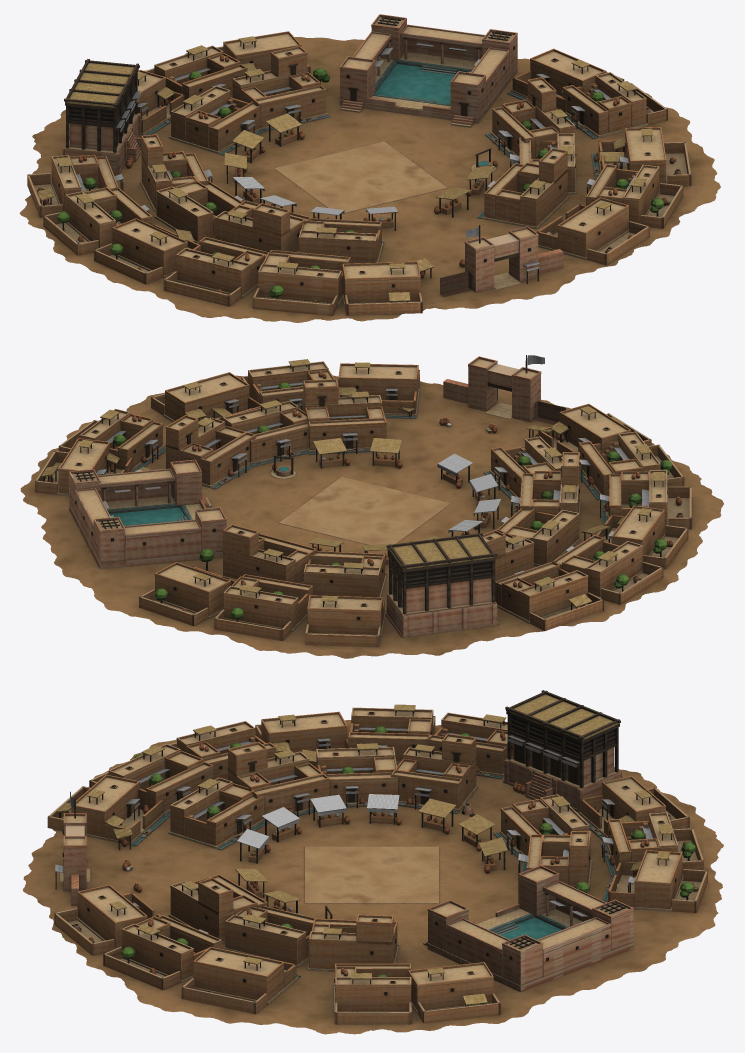
File: bronze-town-big-a-indic-bead2d32.glb
3 renders of one model, top to bottom at view 1: azimuth 30°, elevation 25°; view 2: azimuth 150°, elevation 25°; view 3: azimuth 270°, elevation 25°, orthographic. The views are drawn at different scales.
Visible parts, largest first — view 1: LOD0; view 2: LOD0; view 3: LOD0.
Boxes of the visible parts, left/top/right/bottom form: LOD0: left=19, top=14, right=720, bottom=322; LOD0: left=20, top=355, right=723, bottom=658; LOD0: left=23, top=690, right=723, bottom=1034.
Size of what is drawn, in the model's own units: 7.93 by 0.8921 by 7.49.
Materials: 3 (3 with a texture image).
